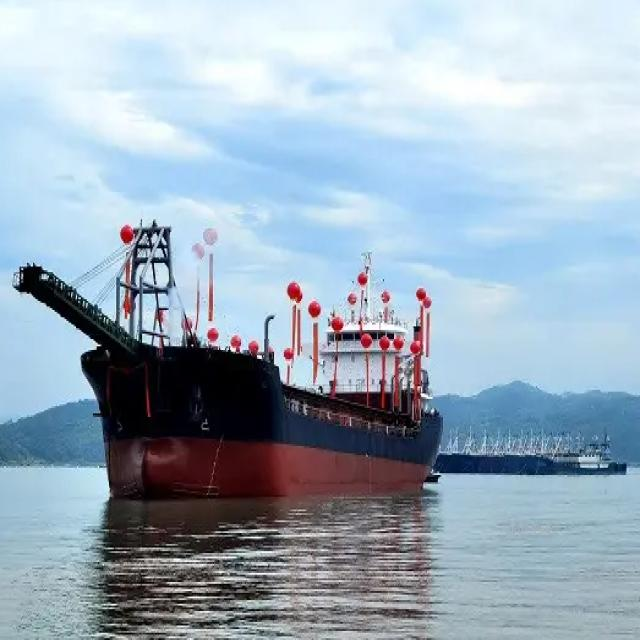cargoship: (27, 186, 457, 515)
